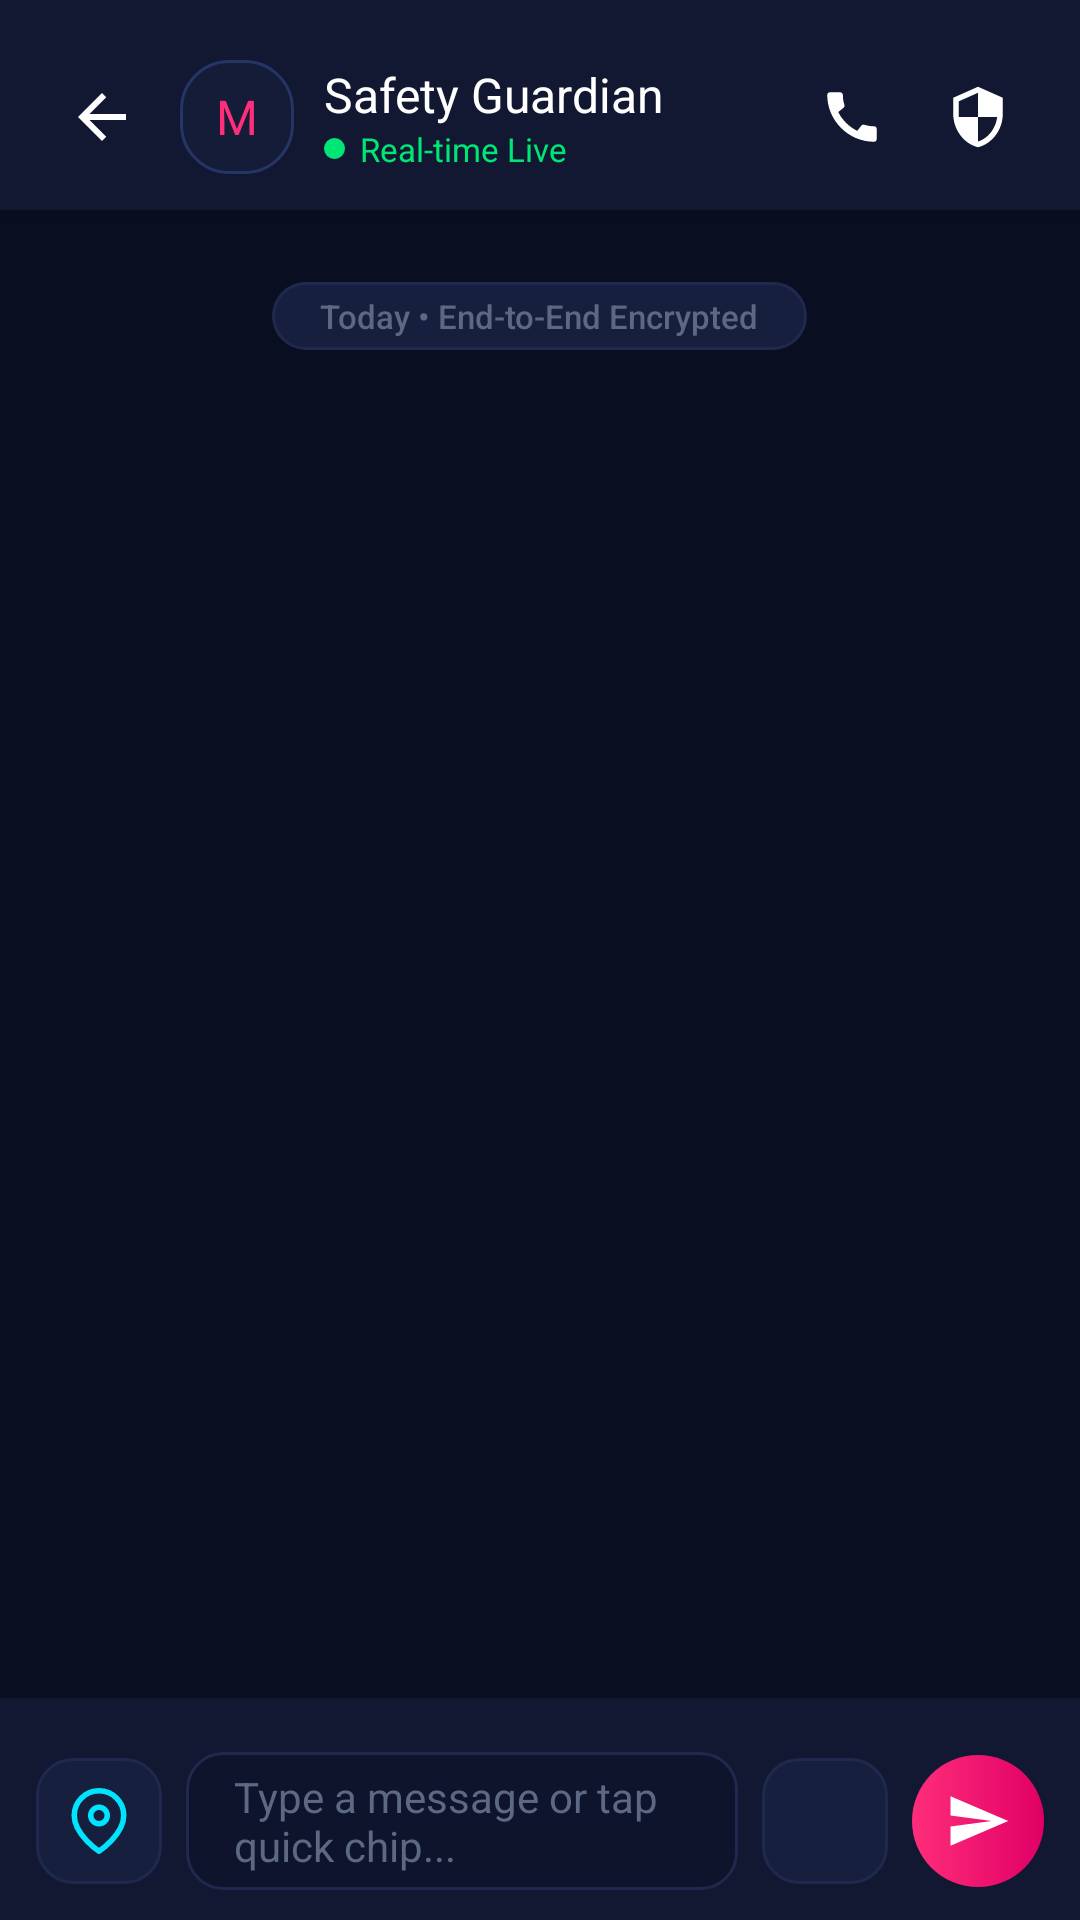

Screen size 1080x1920. Icon name, then its box in pixels as BBox(x1, y1, x2, y2):
Back: BBox(78, 93, 126, 141)
Call: BBox(827, 92, 877, 142)
location pin: BBox(71, 1788, 127, 1854)
Send: BBox(912, 1755, 1044, 1887)
